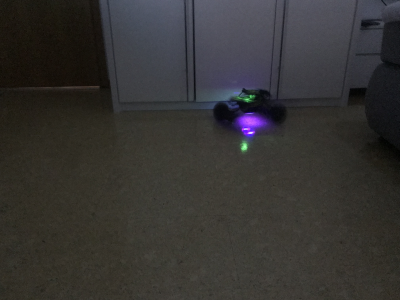remote control car: (209, 86, 288, 129)
